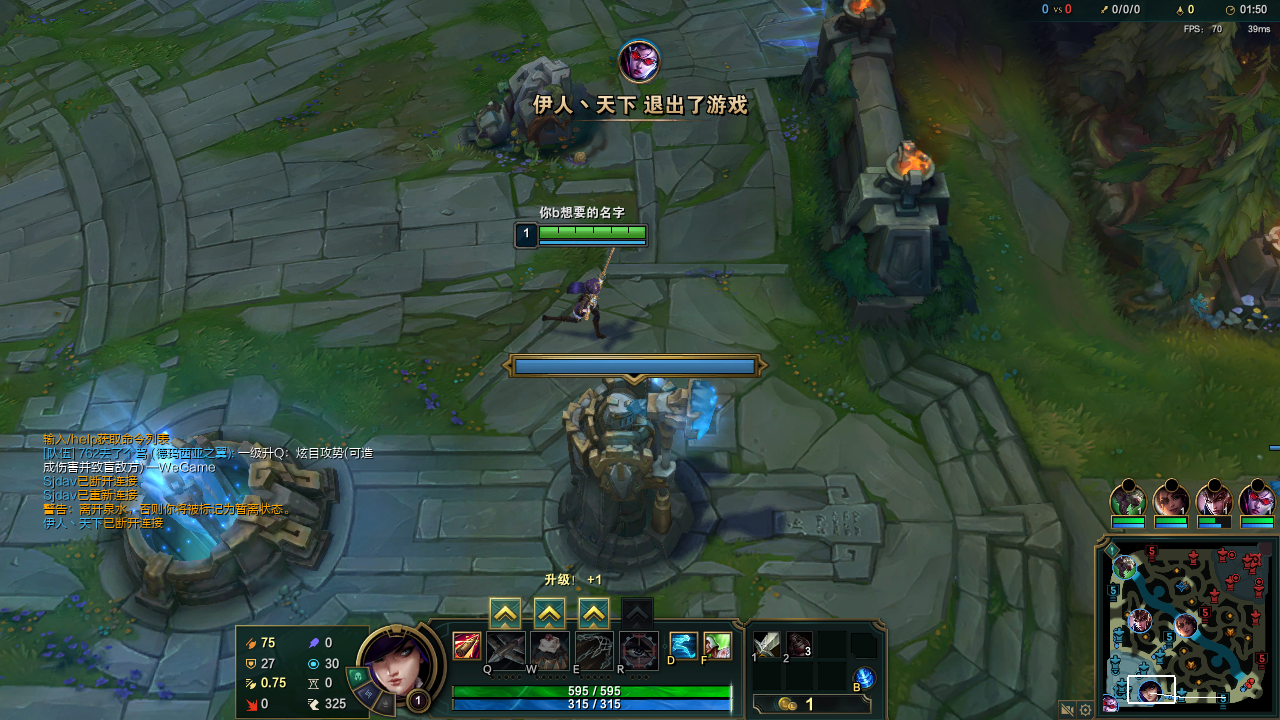Shenji: (491, 604, 516, 630), (579, 602, 606, 626), (538, 599, 563, 622)
